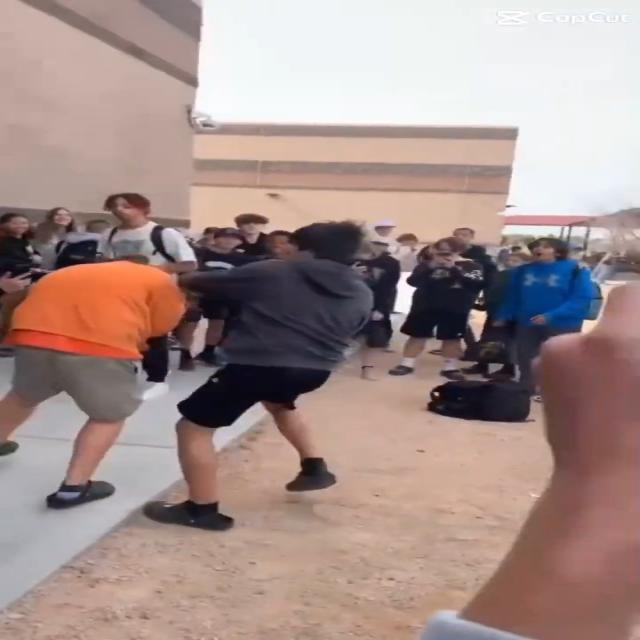fight: (7, 216, 360, 534)
